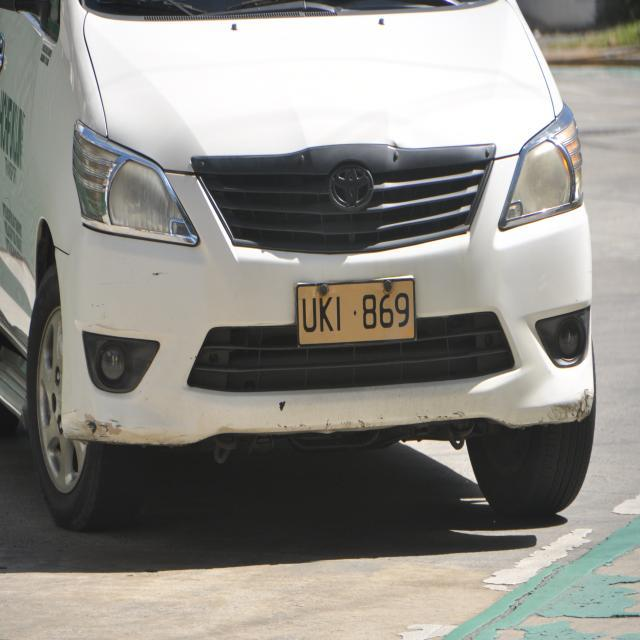LicensePlate: (290, 271, 426, 351)
